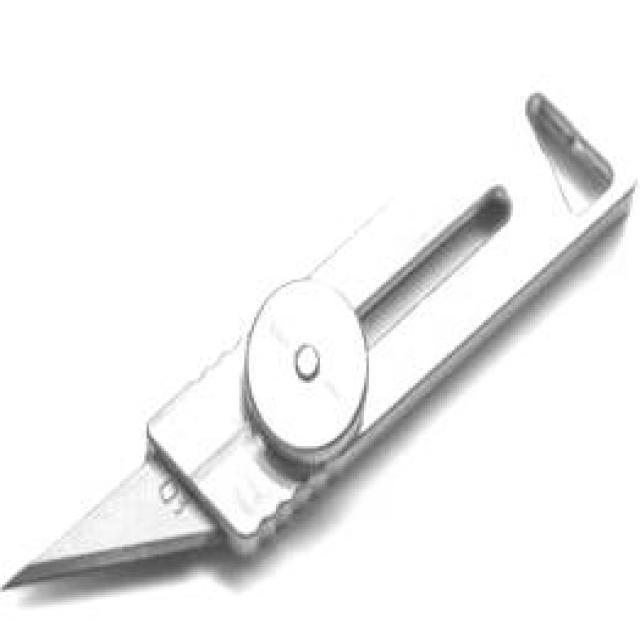estilete: (7, 94, 635, 584)
